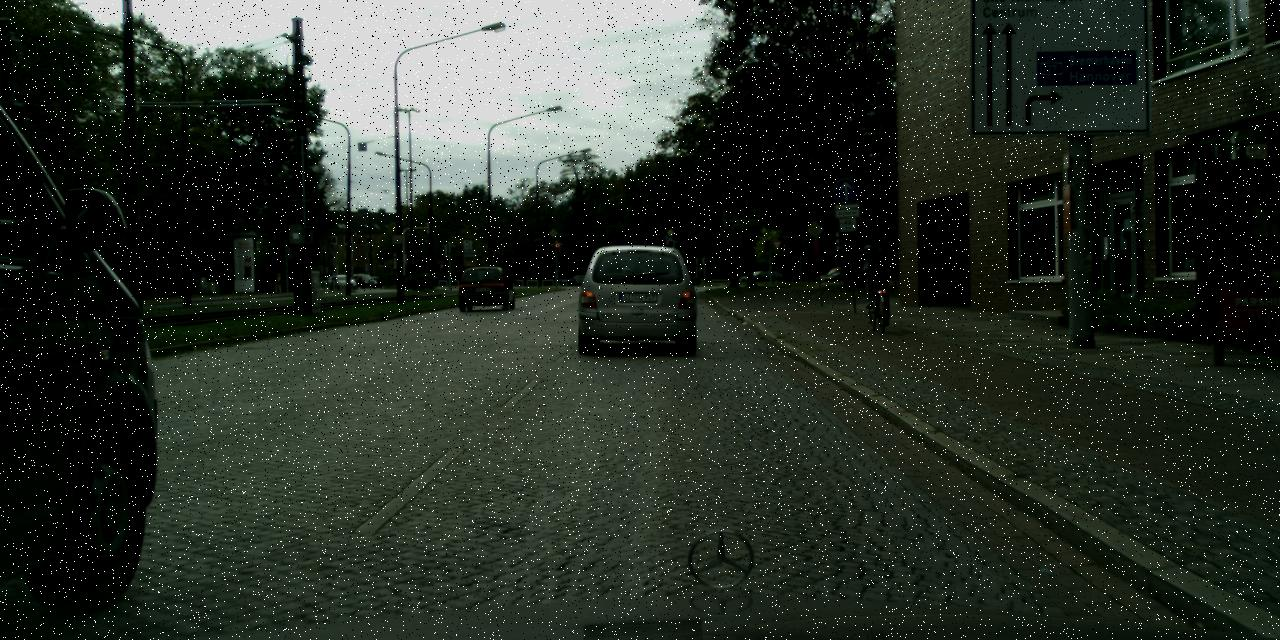ped: (857, 220, 897, 316), (272, 271, 282, 293)
